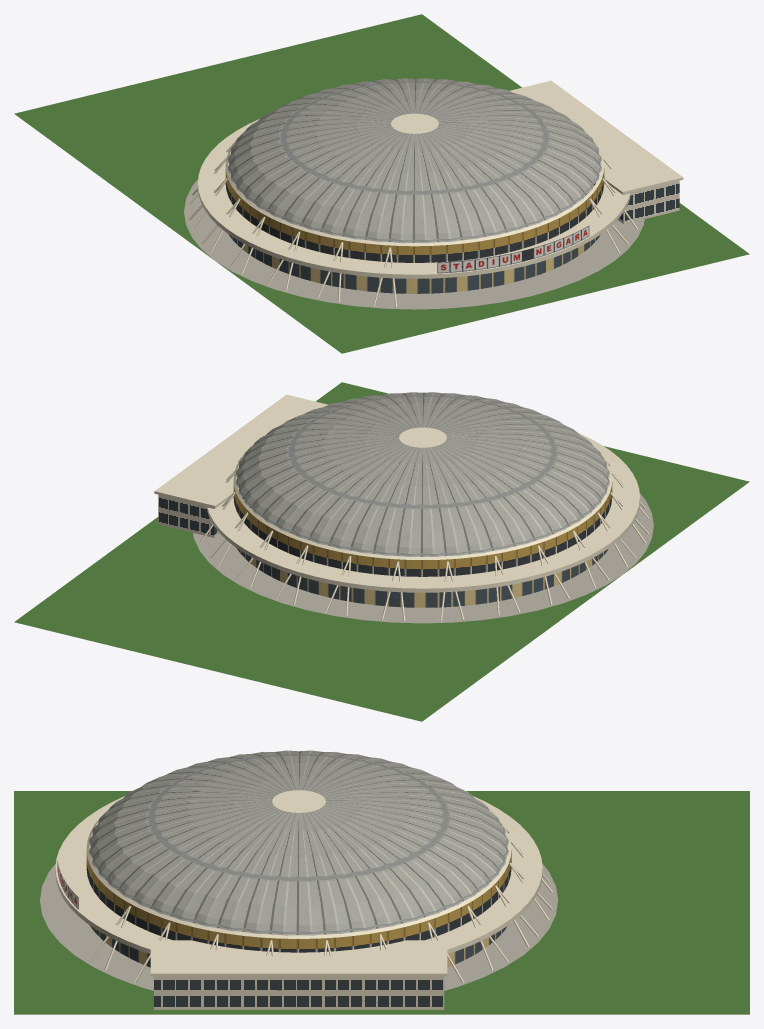
File: stadium-negara.glb
3 views of the same model, one above another, from view 1: azimuth 30°, elevation 25°; view 2: azimuth 150°, elevation 25°; view 3: azimuth 270°, elevation 25° (orthographic). The views are drawn at different scales.
Visible parts, largest first — view 1: StadiumNegara; view 2: StadiumNegara; view 3: StadiumNegara.
Boxes of the visible parts, left/top/right/bottom form: StadiumNegara: left=14, top=14, right=749, bottom=353; StadiumNegara: left=14, top=382, right=749, bottom=721; StadiumNegara: left=14, top=750, right=749, bottom=1014.
Bounding box in the file's own units: 102 × 21.28 × 142.
Materials: 8 (5 with a texture image).
